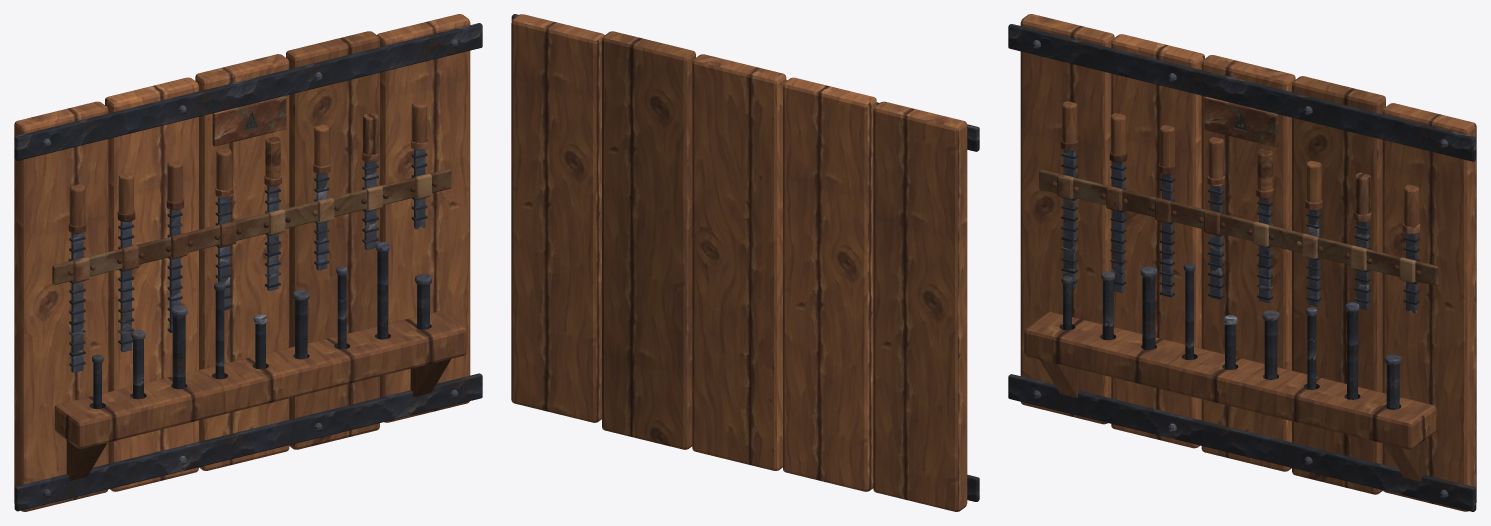
Rendered from ef_file_board.glb.
The picture shows the model from 3 angles, left to right: view 1: azimuth 30°, elevation 25°; view 2: azimuth 150°, elevation 25°; view 3: azimuth 330°, elevation 25°; orthographic projection.
Visible parts, largest first — view 1: model; view 2: model; view 3: model.
Boxes of the visible parts, x1,y1,x2,y2 form: model: (14,14,482,511); model: (511,14,979,511); model: (1008,14,1476,511).
Size of the model in its own units: 1.03 by 0.8333 by 0.14.
Materials: 12 (10 with a texture image).
